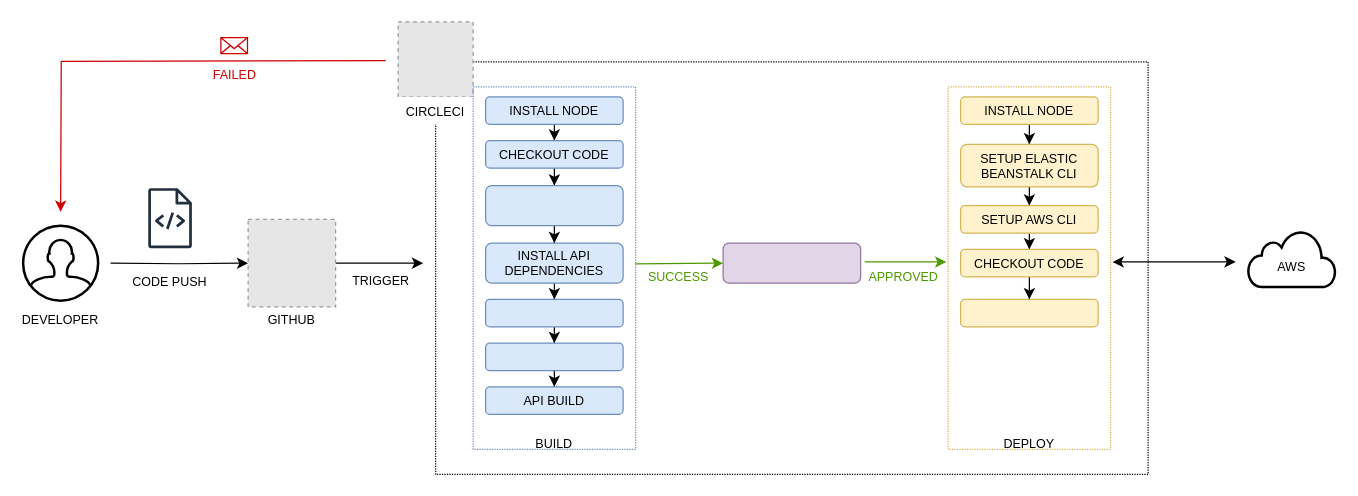
This 1358x496 diagram has some shape labels left out. Grey dashed boxes stand in for pictures. Each missing label, with the box of its shape:
DEPLOY APP: (959, 298, 1098, 327)
FRONT-END BUILD: (484, 342, 623, 371)
FRONT-END LINT: (484, 298, 623, 327)
HOLD: (722, 242, 861, 283)
INSTALL FRONT-END DEPENDENCIES: (484, 184, 623, 226)
